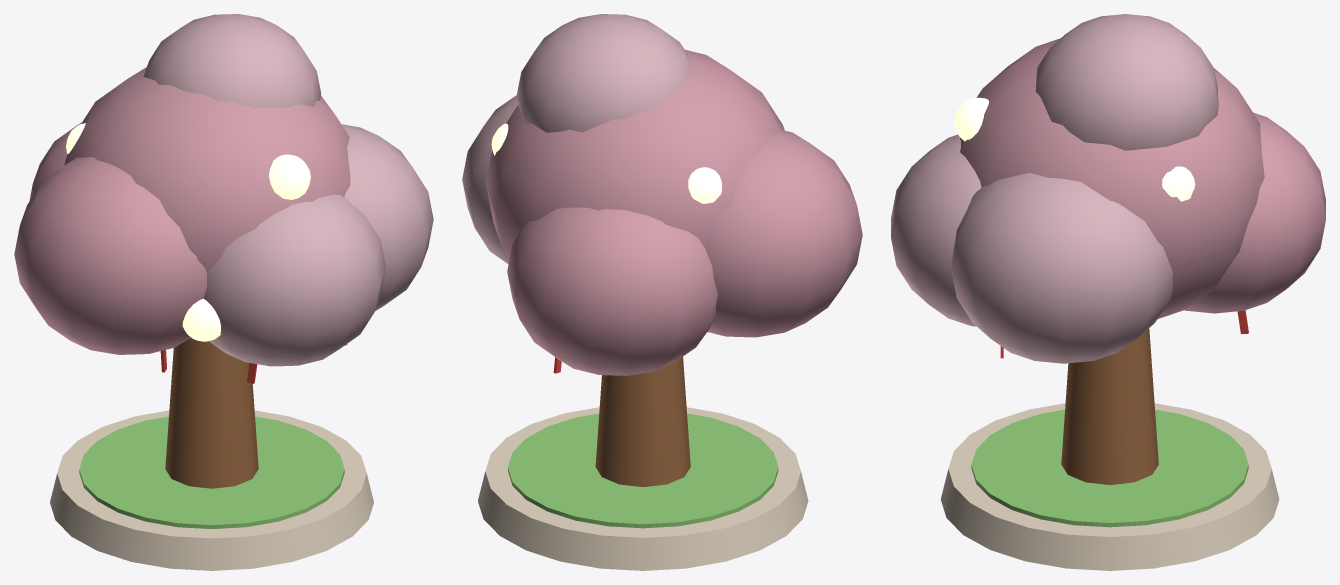
File: prop_plaza_fortune_tree_ph.glb
The picture shows the model from 3 angles, left to right: view 1: azimuth 30°, elevation 25°; view 2: azimuth 150°, elevation 25°; view 3: azimuth 270°, elevation 25°; orthographic projection. The views are drawn at different scales.
Visible parts, largest first — view 1: prop_plaza_fortune_tree; view 2: prop_plaza_fortune_tree; view 3: prop_plaza_fortune_tree.
Part boxes in pixels (bbox=[...]): prop_plaza_fortune_tree: bbox=[14, 14, 433, 570]; prop_plaza_fortune_tree: bbox=[462, 14, 862, 570]; prop_plaza_fortune_tree: bbox=[891, 14, 1325, 570].
Size of the model in its own units: 2.95 by 3.51 by 2.82.
